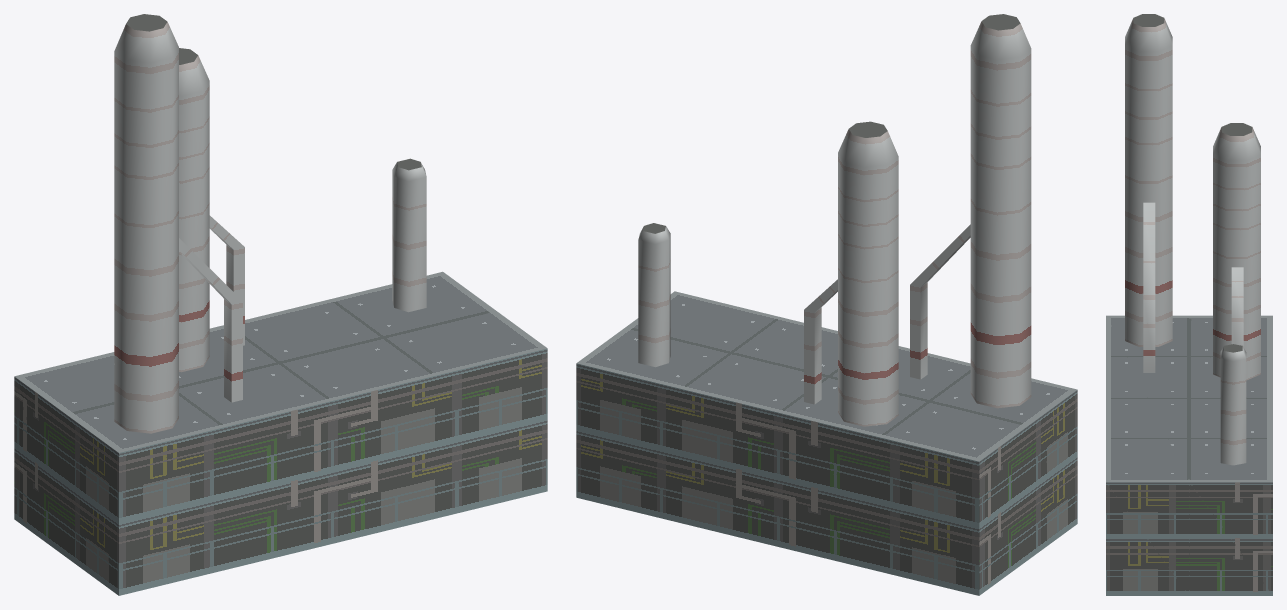
Rendered from 055c_Factory.glb.
The picture shows the model from 3 angles, left to right: view 1: azimuth 30°, elevation 25°; view 2: azimuth 150°, elevation 25°; view 3: azimuth 270°, elevation 25°; orthographic projection. The views are drawn at different scales.
Parts seen in each view (by area): view 1: part_0; view 2: part_0; view 3: part_0.
Boxes of the visible parts, x1,y1,x2,y2 form: part_0: (14, 14, 547, 595); part_0: (576, 14, 1077, 595); part_0: (1106, 14, 1272, 595).
Bounding box in the file's own units: 16.96 × 20.41 × 7.18.
Materials: 1 (1 with a texture image).
